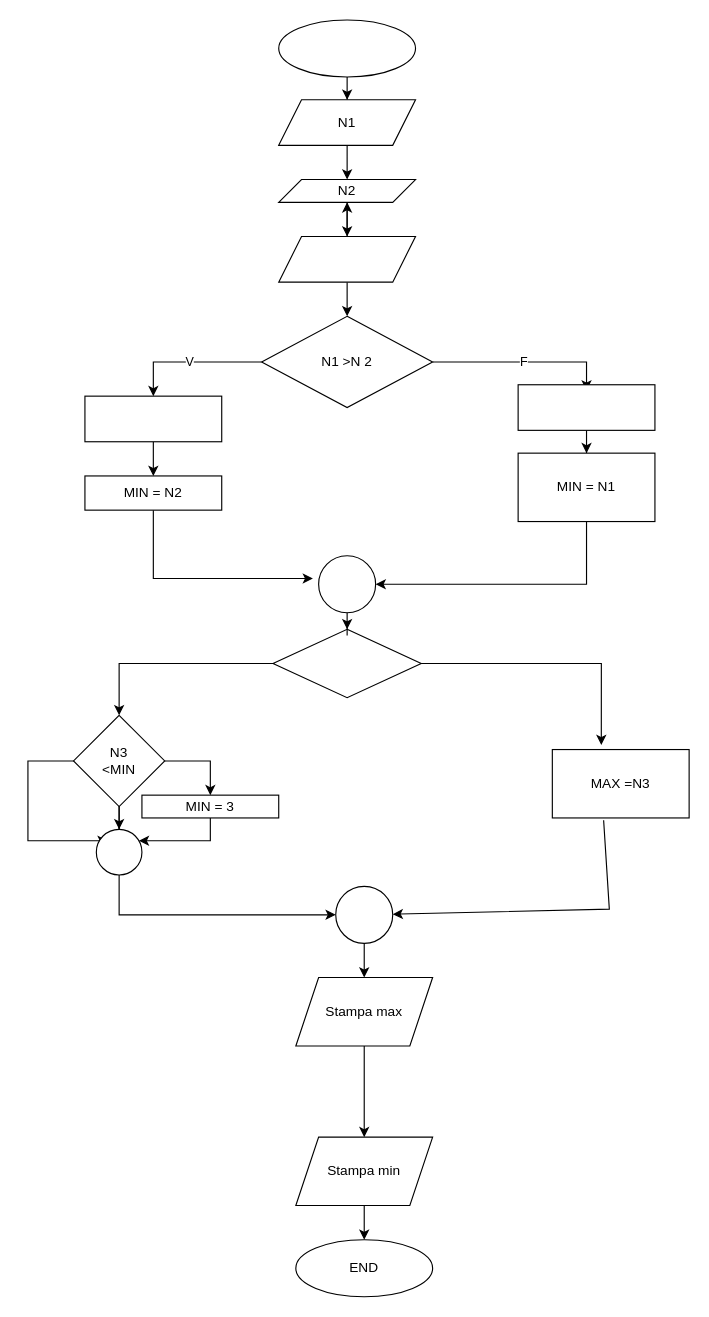
Image size: 709x1317. Some labels were removed from this diagram. Each missing label, with the centre of its shape:
"MAX = N1" goes at pixel 153 418.
"MAX = N2" goes at pixel 586 407.
"N3" goes at pixel 347 258.
"N3>MAX" goes at pixel 346 663.
"START" goes at pixel 347 48.
